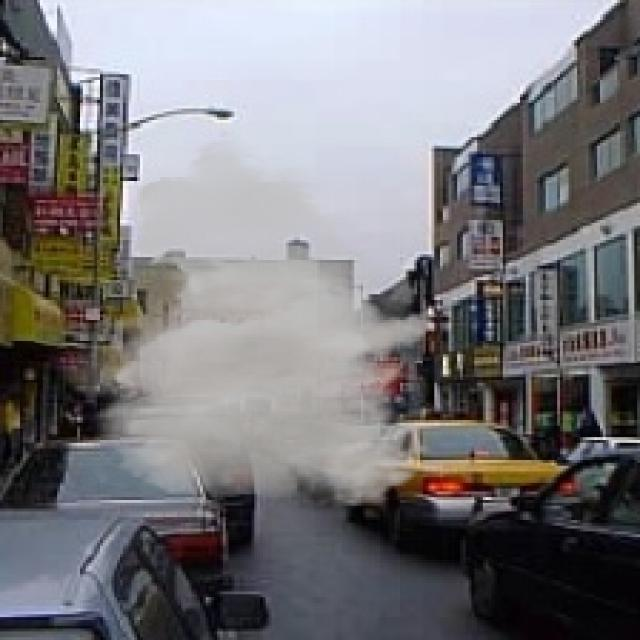smoke: (52, 128, 437, 508)
